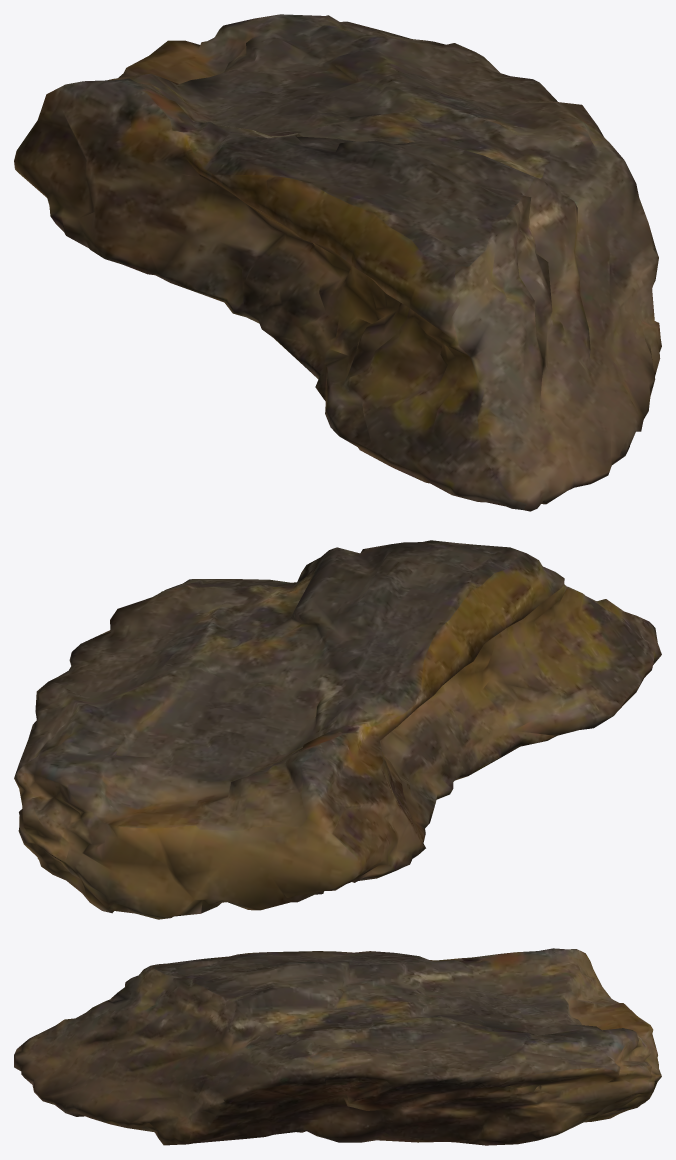
Rendered from rock-09.lod1.glb.
The picture shows the model from 3 angles, top to bottom: view 1: azimuth 30°, elevation 25°; view 2: azimuth 150°, elevation 25°; view 3: azimuth 270°, elevation 25°; orthographic projection. The views are drawn at different scales.
Visible parts, largest first — view 1: rock_09_LOD0; view 2: rock_09_LOD0; view 3: rock_09_LOD0.
Part boxes in pixels (x1=…): rock_09_LOD0: x1=14, y1=14, x2=661, y2=511; rock_09_LOD0: x1=14, y1=540, x2=661, y2=919; rock_09_LOD0: x1=14, y1=948, x2=661, y2=1145.
Bounding box in the file's own units: 0.0739 × 0.0328 × 0.1446.
Materials: 1 (1 with a texture image).
